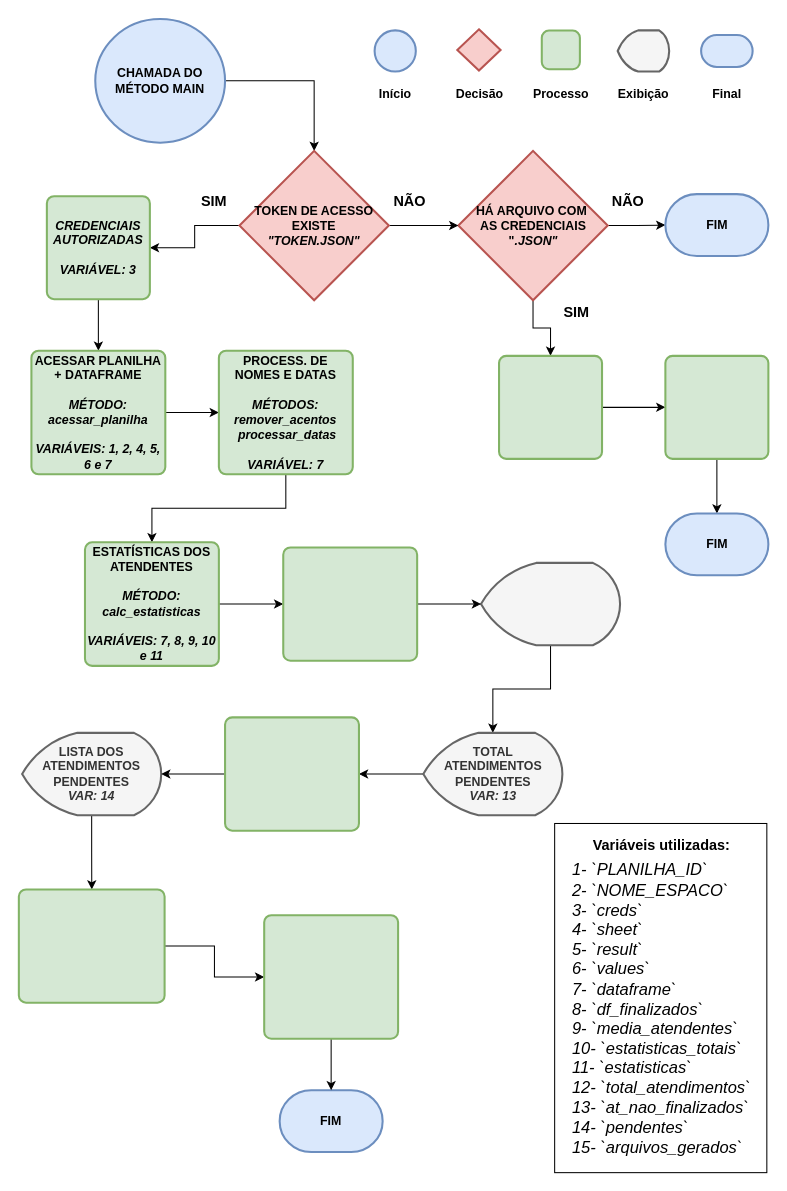
The diagram is 787 pixels wide and 1191 high, and some of its shapes have lost their labels. Here are the shapes that lost their labels. From the top down, the centre of each, then its label:
At pixel 550 406: "LOGIN NO GOOGLE PARA AUTORIZAÇÃO".
At pixel 716 406: "É CRIADO O `TOKEN.JSON`".
At pixel 350 603: "Nº TOTAL DE ATENDIMENTOS FINALIZADOS E NÃO VARIÁVEIS: 12 e 13".
At pixel 550 603: "TOTAL ATENDIMENTOS VAR: 12".
At pixel 291 773: "OBTENÇÃO DE ATENDIMENTOS PENDENTES VARIÁVEL: 7 e 14".
At pixel 91 945: "CONVERSÃO DAS INFO. PARA XLSX MÉTODO: salvar_resultados VARIÁVEIS: 11, 14 e 15".
At pixel 331 976: "ENVIO DOS RELATÓRIOS POR EMAIL MÉTODO: enviar_relatorios VARIÁVEL: 15".
